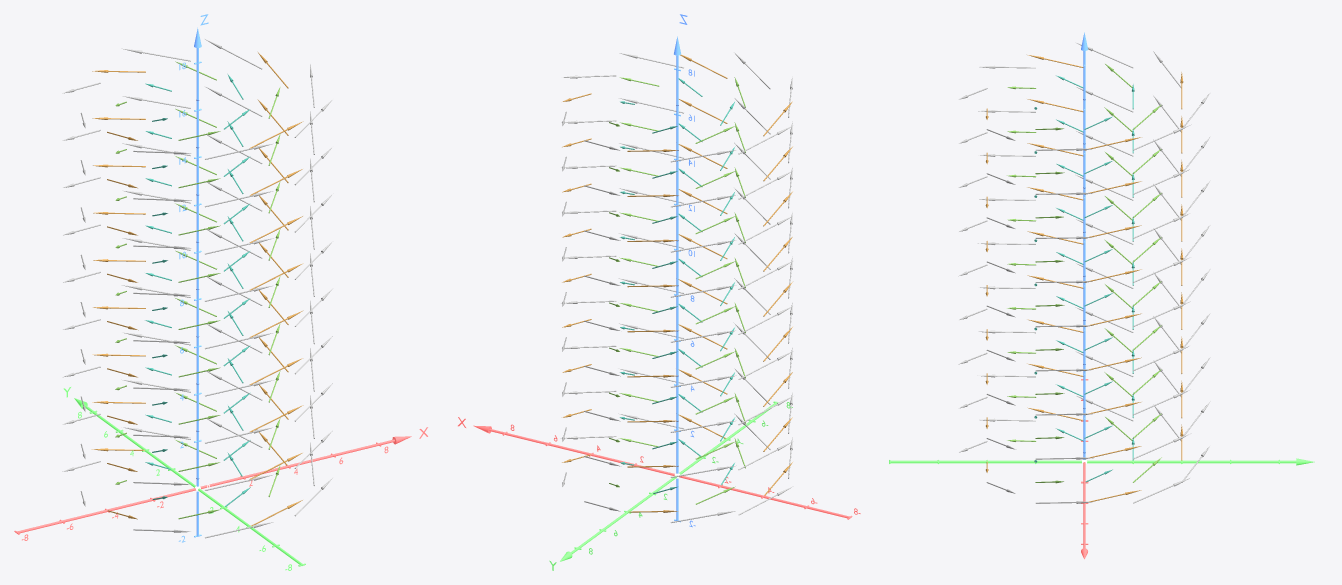
Rendered from pruebitaVectores.glb.
The picture shows the model from 3 angles, left to right: view 1: azimuth 30°, elevation 25°; view 2: azimuth 150°, elevation 25°; view 3: azimuth 270°, elevation 25°; orthographic projection. The views are drawn at different scales.
Parts seen in each view (by area): view 1: EJE_Z_cuerpo, EJE_X_cuerpo, EJE_Y_cuerpo; view 2: EJE_Z_cuerpo, EJE_X_cuerpo, EJE_Y_cuerpo; view 3: EJE_Y_cuerpo, EJE_Z_cuerpo.
Part boxes in pixels (bbox=[...]): EJE_Z_cuerpo: bbox=[196, 48, 198, 536]; EJE_X_cuerpo: bbox=[16, 439, 394, 533]; EJE_Y_cuerpo: bbox=[84, 404, 302, 565]; EJE_Z_cuerpo: bbox=[676, 55, 678, 520]; EJE_X_cuerpo: bbox=[489, 428, 849, 518]; EJE_Y_cuerpo: bbox=[571, 401, 777, 553]; EJE_Y_cuerpo: bbox=[889, 460, 1296, 463]; EJE_Z_cuerpo: bbox=[1083, 51, 1085, 459].
Bounding box in the file's own units: 18.36 × 22.35 × 18.03.
